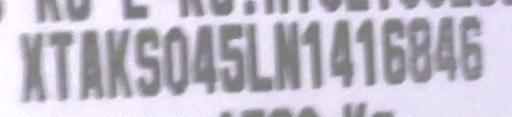letter: (102, 24, 136, 99), (15, 29, 49, 104), (215, 21, 247, 100), (132, 25, 164, 104), (325, 14, 357, 91), (188, 20, 220, 97), (74, 26, 106, 103), (377, 14, 409, 89), (270, 19, 302, 94), (160, 23, 192, 98), (456, 13, 488, 86), (243, 21, 275, 94), (404, 12, 434, 87), (297, 17, 327, 90), (44, 28, 74, 101), (432, 12, 460, 87), (353, 15, 379, 88)
